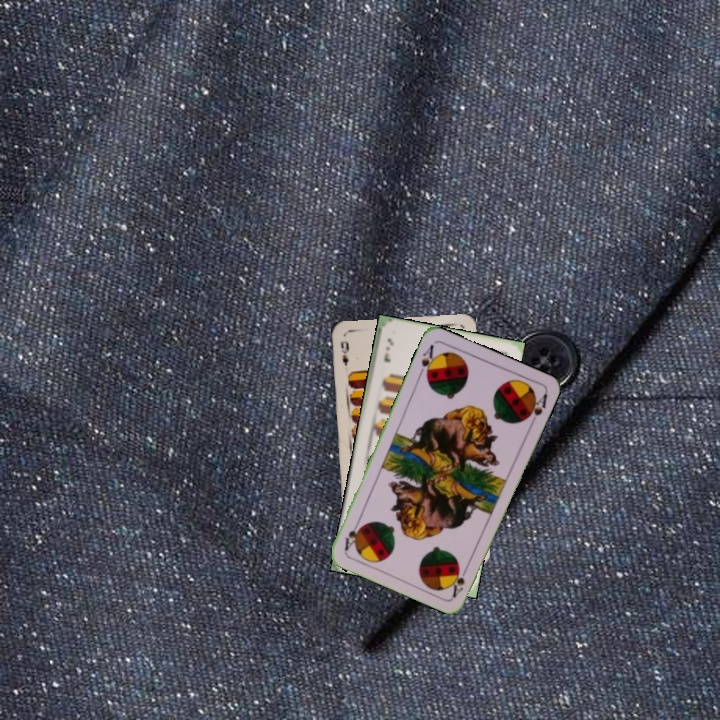E7: (379, 334, 396, 365)
E9: (337, 337, 352, 368)
SA: (415, 340, 439, 381), (448, 561, 471, 600)
